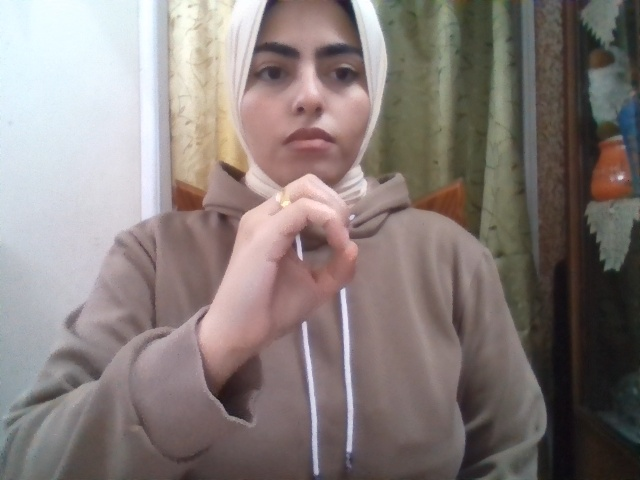O: (208, 174, 359, 352)
